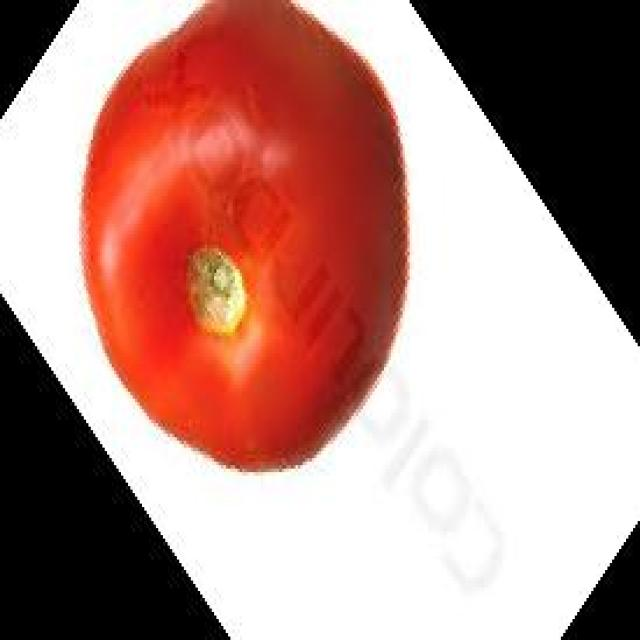Tomato: (78, 0, 416, 480)
